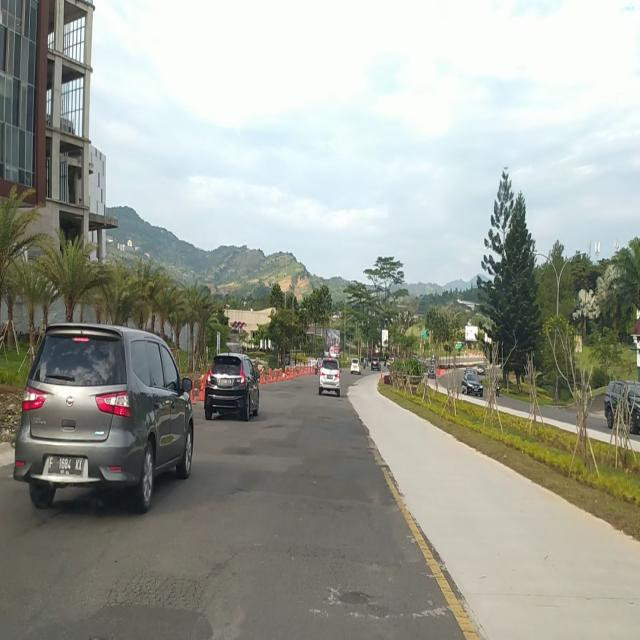Drain Hole: (102, 568, 209, 608)
